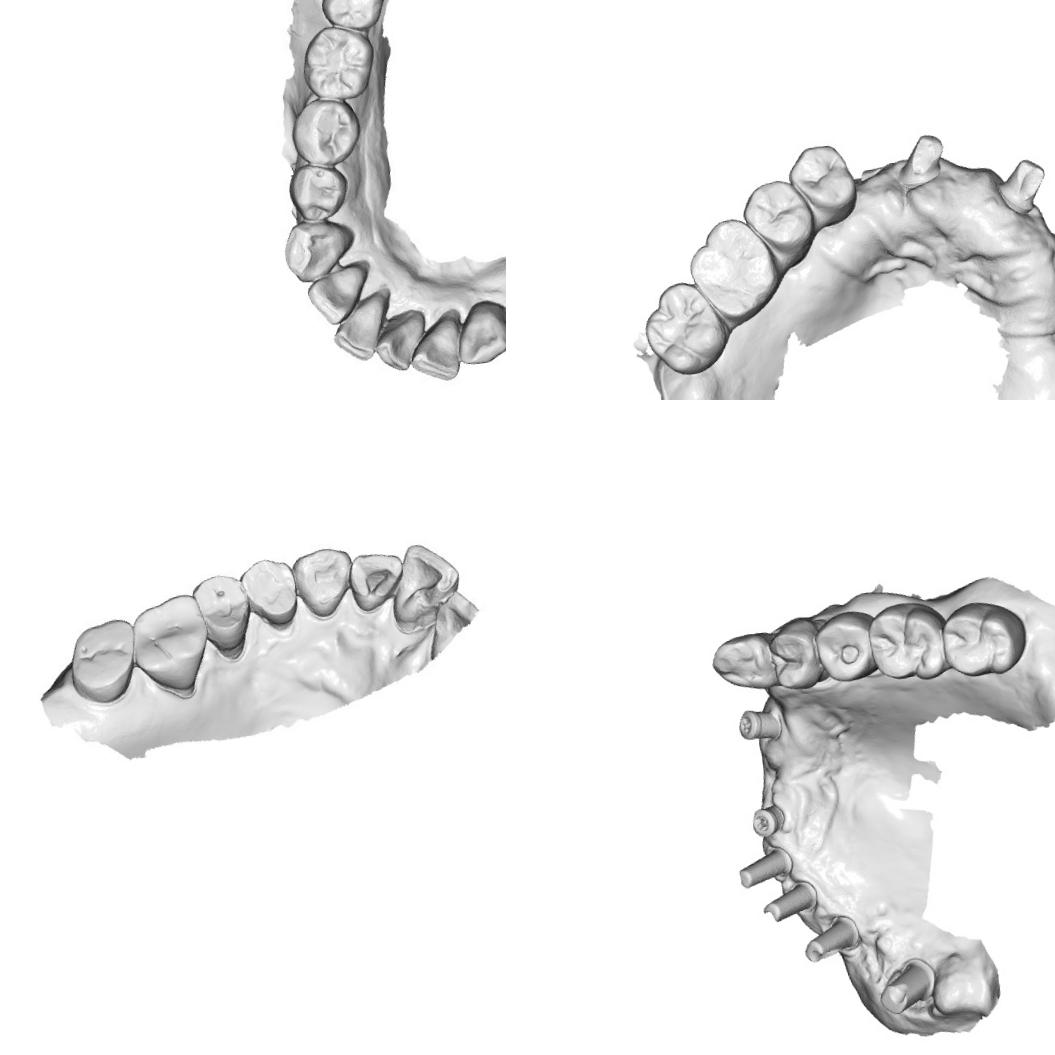abutment: (990, 153, 1054, 219), (870, 955, 938, 1016), (798, 911, 862, 965), (730, 844, 796, 890), (897, 127, 949, 185), (759, 878, 822, 924)
canine: (290, 540, 355, 620), (284, 220, 362, 280), (708, 630, 778, 696), (456, 299, 506, 367)
implant_plus: (735, 705, 784, 746), (748, 801, 788, 840)
incisor: (384, 536, 464, 626), (302, 260, 374, 330), (326, 289, 396, 359), (407, 309, 472, 383), (345, 548, 409, 614), (368, 313, 428, 371)
molar: (682, 211, 786, 328), (636, 275, 736, 381), (125, 592, 210, 694), (864, 597, 954, 687), (937, 594, 1031, 680), (63, 615, 141, 706), (926, 947, 998, 1023), (301, 27, 374, 97), (316, 0, 393, 30)
premolar: (737, 172, 818, 260), (782, 136, 862, 222), (810, 606, 882, 687), (190, 568, 258, 649), (290, 92, 362, 168), (237, 553, 303, 629), (765, 614, 827, 694), (284, 156, 350, 220)
